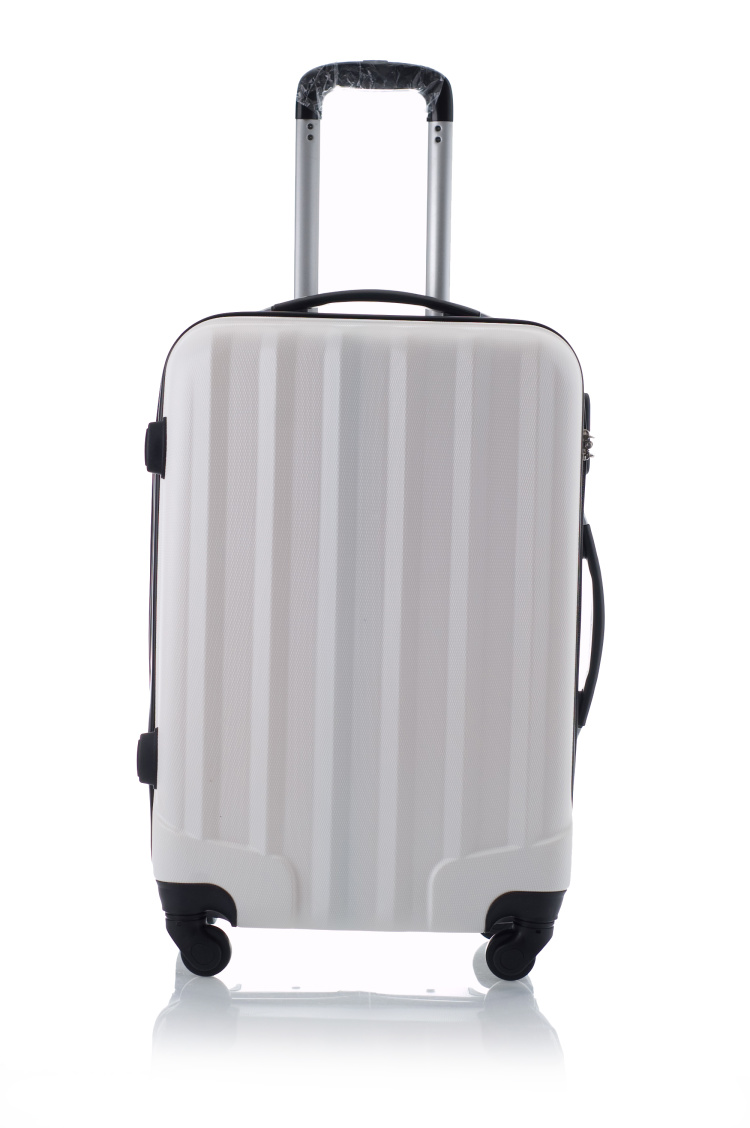luggage: (136, 62, 605, 984)
